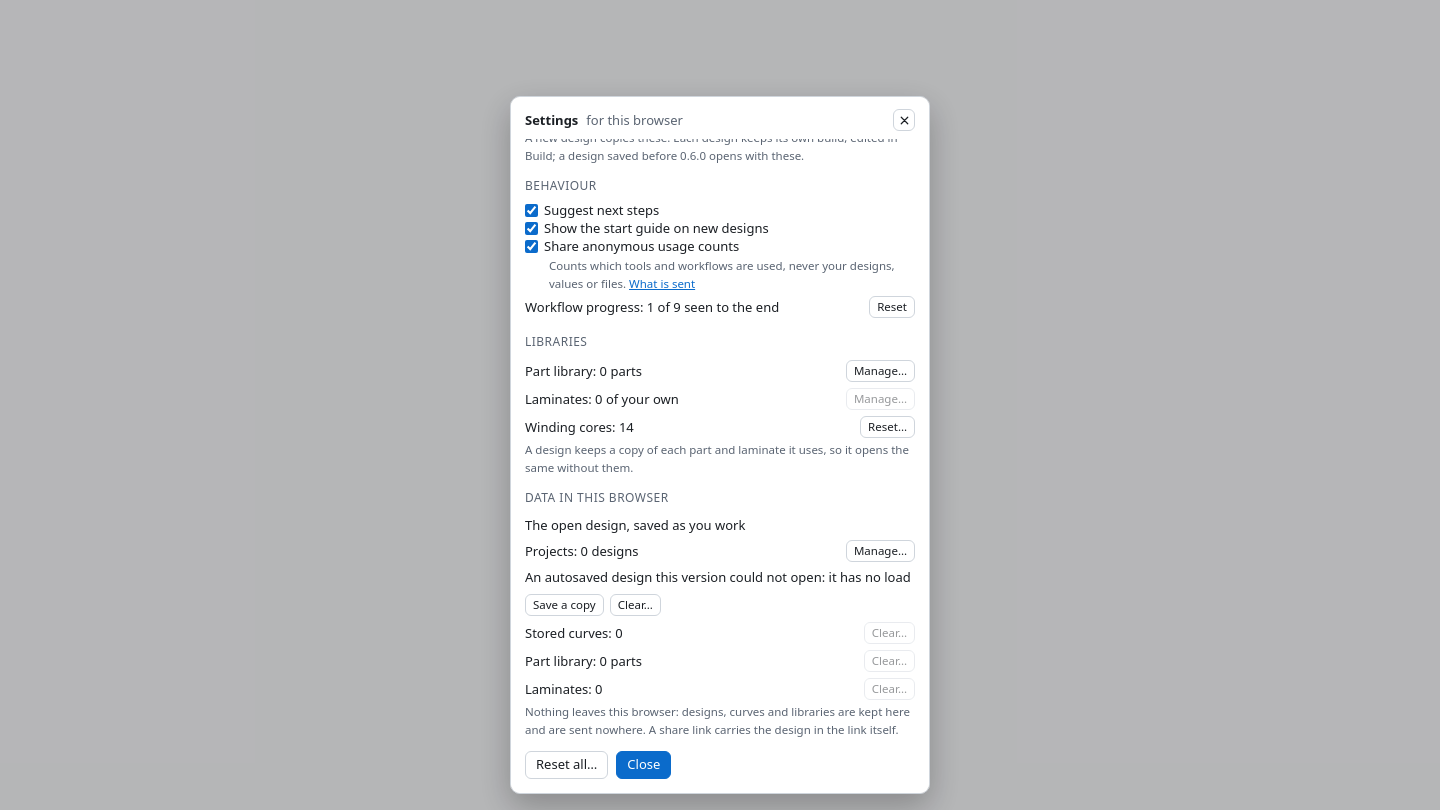
it: Settings, Data in this browser › lists an autosave kept as a backup, with Save a copy and Clear
This screenshot has width=1440, height=810.
(page scrolled)
Check: the text "An autosaved design this version could not open: it has no load" is shown, box [525,568,911,586]
Check: the button with aria-label "Save a copy of the kept autosave" is shown, box [525,594,604,616]
Click the 1st button "Clear…" at (635, 605), box [610,594,661,616]
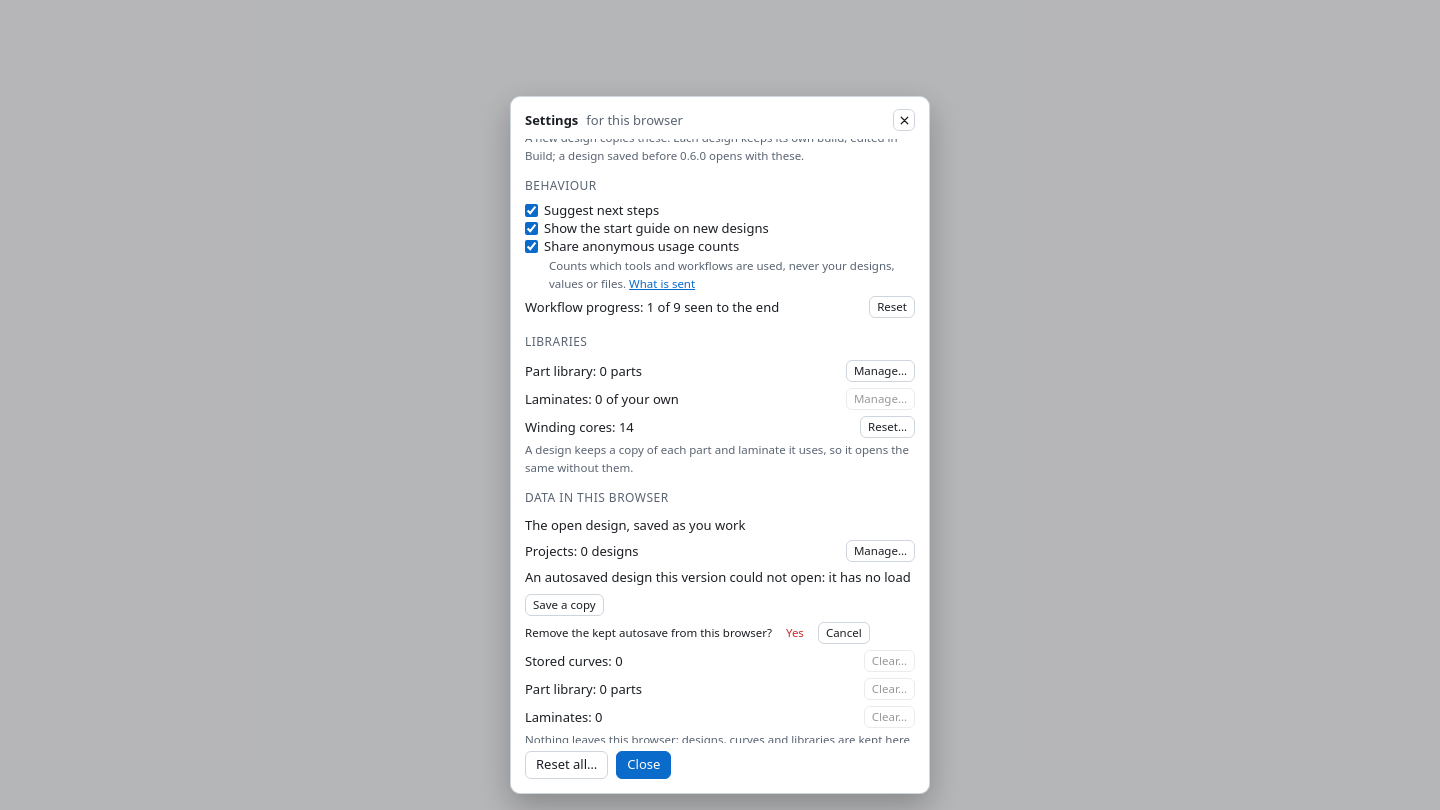
Click the button "Yes" at (795, 633), box [778,622,812,644]
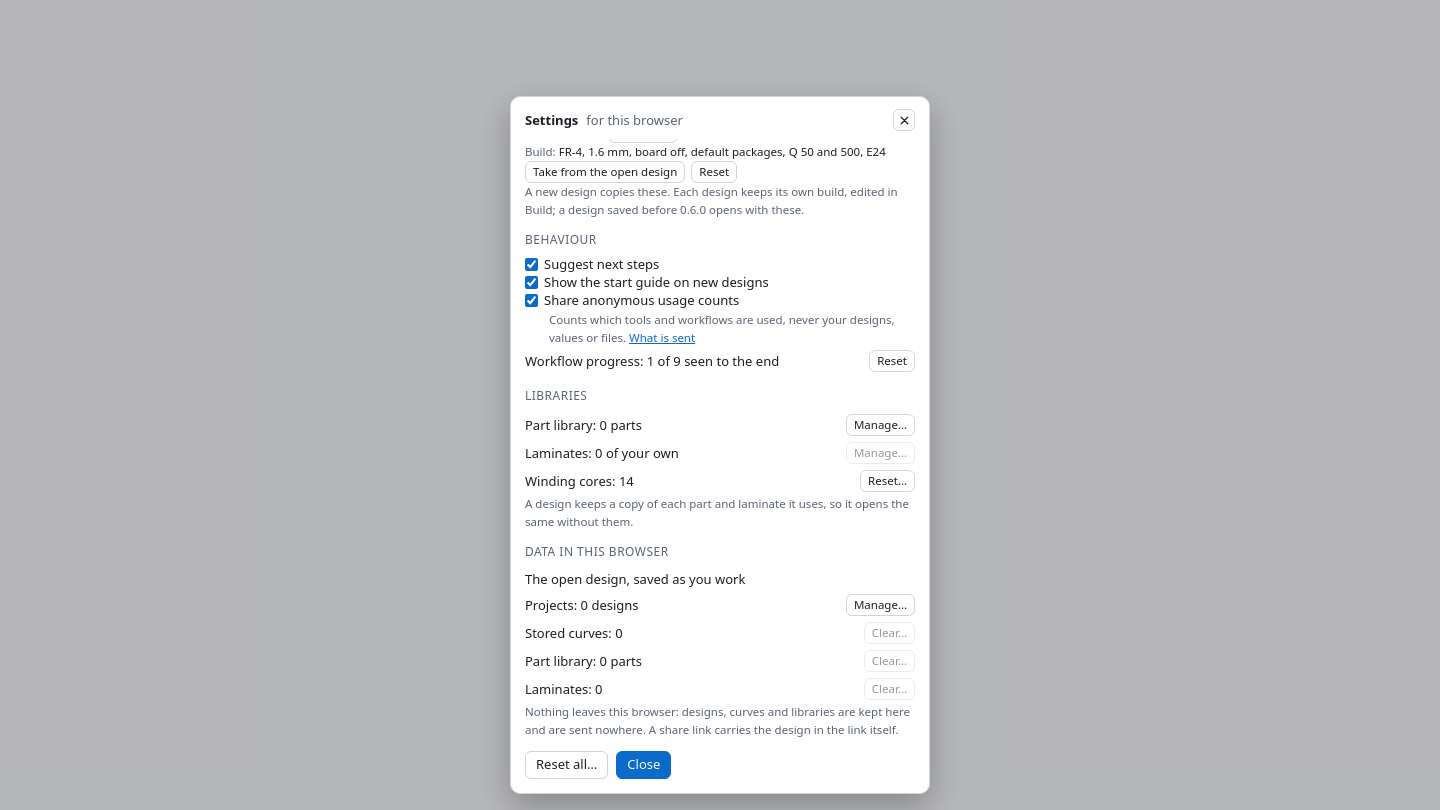
Check: the text "could not open: it has no load" is gone
